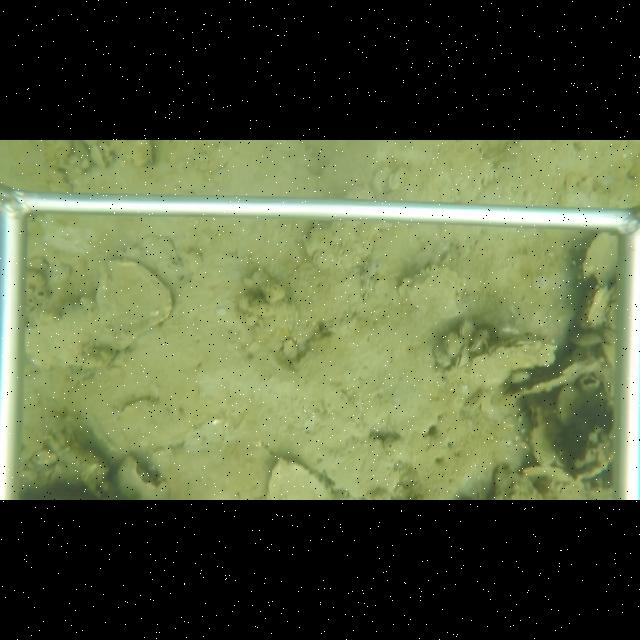Oyster-Closed: (24, 256, 177, 372), (443, 333, 558, 390), (298, 221, 385, 274), (502, 356, 606, 399), (396, 264, 470, 319), (264, 455, 341, 500), (577, 230, 617, 288), (525, 404, 558, 465), (580, 283, 612, 329), (107, 142, 158, 167), (445, 332, 465, 360), (89, 143, 109, 170), (467, 332, 485, 355), (459, 320, 475, 340)
